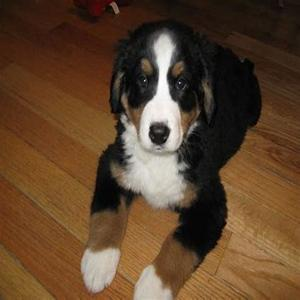dog: (109, 27, 244, 237)
